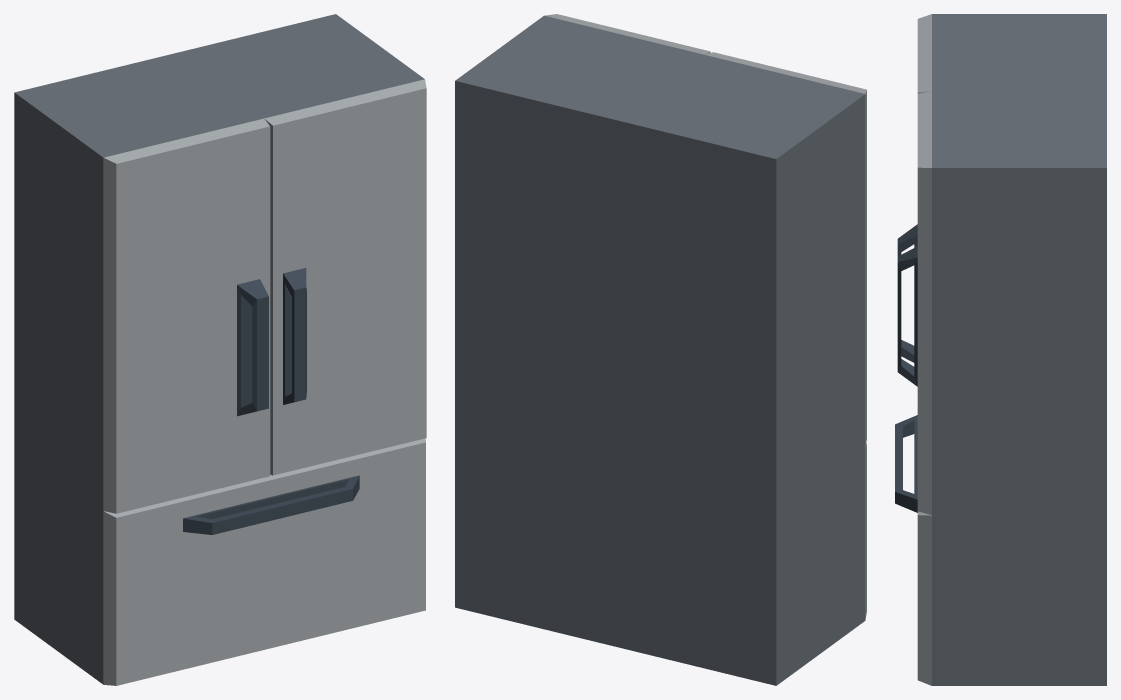
Rendered from Fridge.FBX.
The picture shows the model from 3 angles, left to right: view 1: azimuth 30°, elevation 25°; view 2: azimuth 150°, elevation 25°; view 3: azimuth 270°, elevation 25°; orthographic projection.
Visible parts, largest first — view 1: Fridge_01; view 2: Fridge_01; view 3: Fridge_01.
Part boxes in pixels (<box>): Fridge_01: <box>14,14,426,685</box>; Fridge_01: <box>455,14,866,685</box>; Fridge_01: <box>895,14,1106,685</box>.
Size of the model in its own units: 125 by 196 by 72.6.
